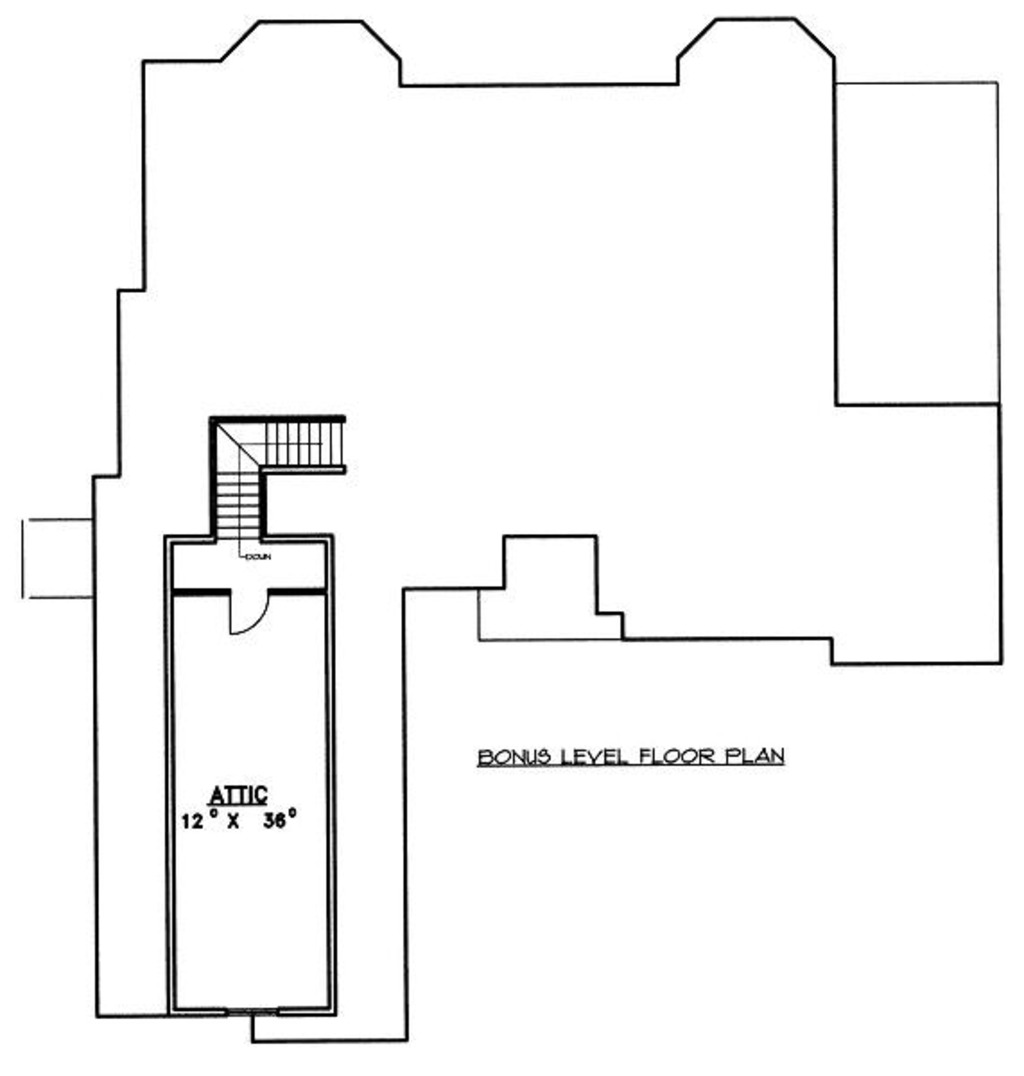door: (230, 592, 284, 657)
stairs: (173, 405, 368, 556)
